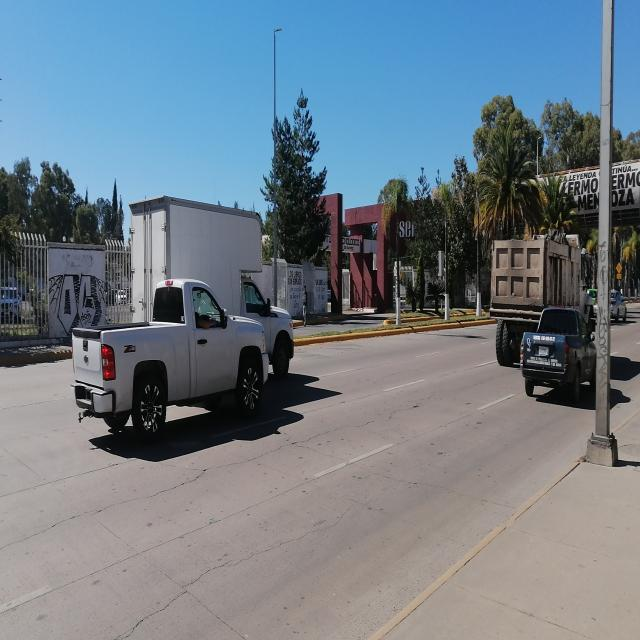Auto: (71, 278, 271, 440), (519, 299, 596, 397)
Peaton: (300, 282, 310, 328)
